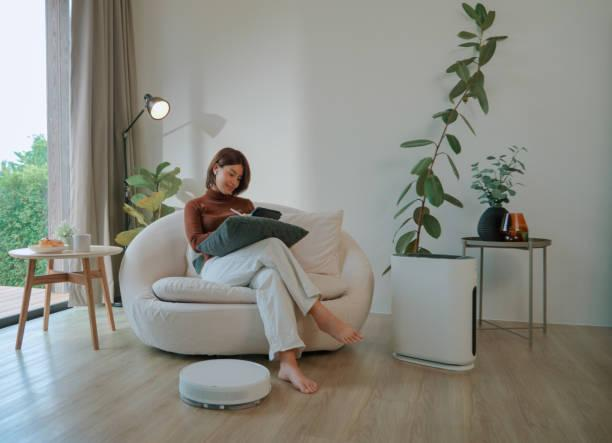Non_Gorille: (141, 89, 385, 418)
